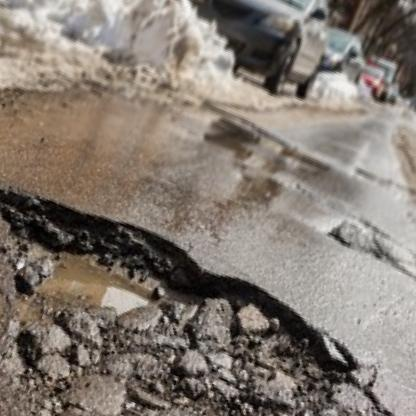pothole: (0, 158, 403, 416)
